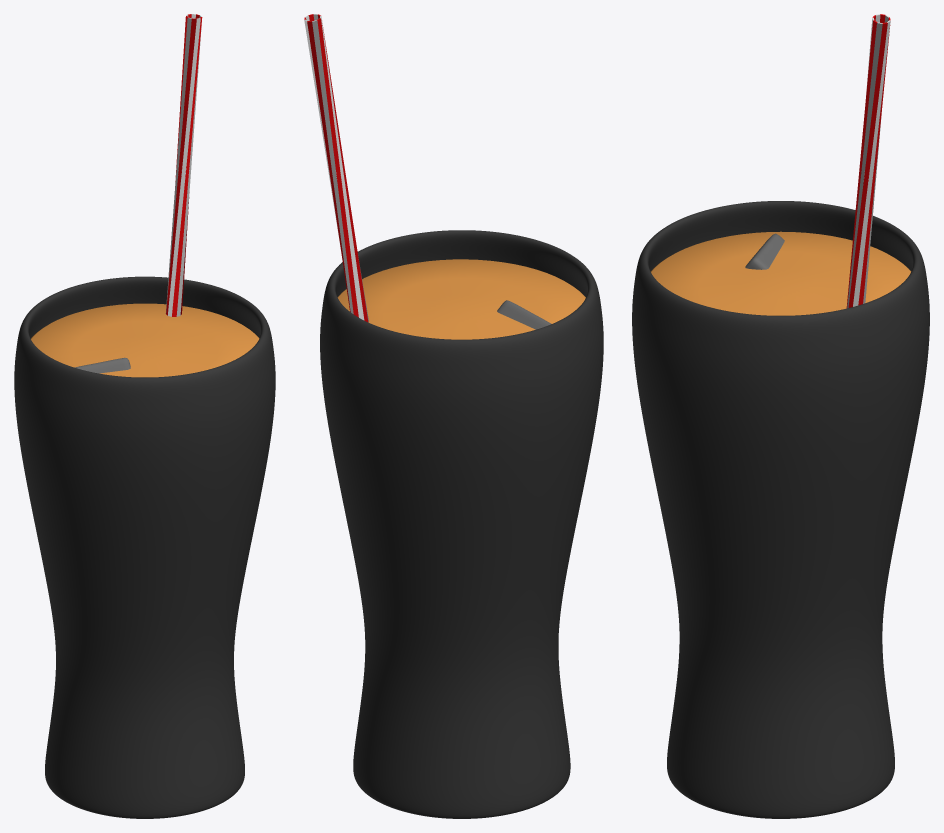
Rendered from FizzyDrink.fbx.
3 views of the same model, side by side, from view 1: azimuth 30°, elevation 25°; view 2: azimuth 150°, elevation 25°; view 3: azimuth 270°, elevation 25° (orthographic). The views are drawn at different scales.
Visible parts, largest first — view 1: Cylinder, Cylinder.001, Cylinder.002, Cube.002; view 2: Cylinder, Cylinder.001, Cylinder.002, Cube.002; view 3: Cylinder, Cylinder.001, Cylinder.002, Cube.002.
Boxes of the visible parts, <box> form: Cylinder: <box>14,276,275,818</box>; Cylinder.001: <box>31,303,259,377</box>; Cylinder.002: <box>165,14,202,316</box>; Cube.002: <box>74,357,130,373</box>; Cylinder: <box>320,230,603,818</box>; Cylinder.001: <box>337,259,585,339</box>; Cylinder.002: <box>304,14,368,322</box>; Cube.002: <box>497,300,551,329</box>; Cylinder: <box>632,201,929,818</box>; Cylinder.001: <box>650,231,911,315</box>; Cylinder.002: <box>846,14,890,308</box>; Cube.002: <box>745,233,784,269</box>.
Size of the model in its own units: 255 by 764 by 255.
